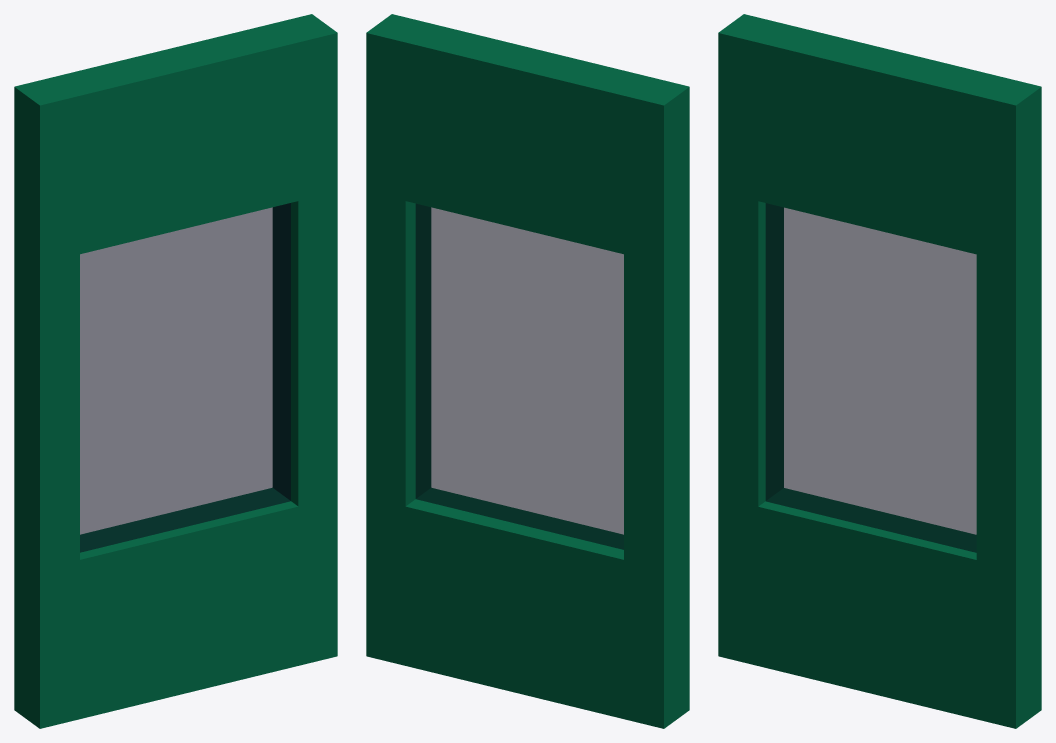
The model's file is GreenWindow.glb.
3 views of the same model, side by side, from view 1: azimuth 30°, elevation 25°; view 2: azimuth 150°, elevation 25°; view 3: azimuth 330°, elevation 25° (orthographic).
Visible parts, largest first — view 1: wall_green_window; view 2: wall_green_window; view 3: wall_green_window.
Part boxes in pixels (bbox=[...]): wall_green_window: bbox=[14, 14, 337, 728]; wall_green_window: bbox=[366, 14, 689, 728]; wall_green_window: bbox=[718, 14, 1041, 728].
Size of what is drawn, in the model's own units: 2 by 4 by 0.3.
Materials: 2 (2 with a texture image).
